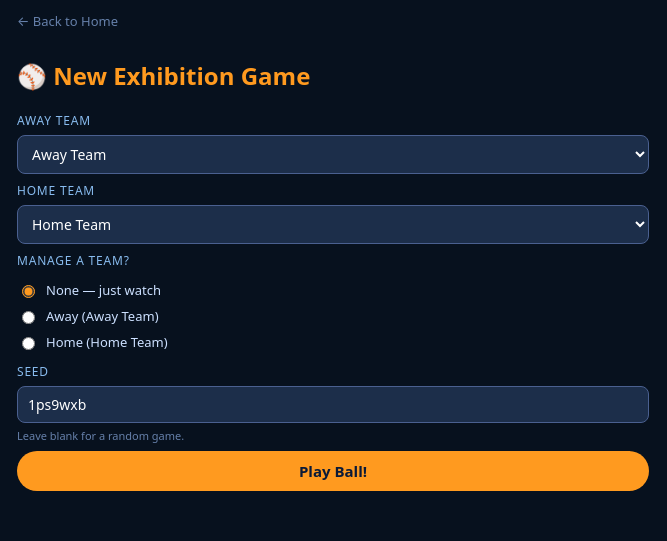
Test: ExhibitionSetupPage › self-matchup: warning clears and Play Ball re-enables when different teams are selected
The image size is (667, 541).
# Force same team → warning appears.
Select "Away Team" in the dropdown with test id "new-game-custom-home-team-select" at (333, 224), box x1=17 y1=205 x2=649 y2=244
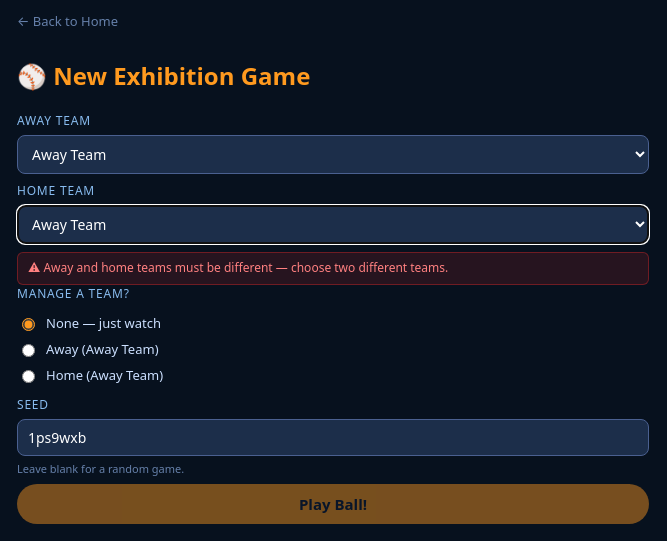
Result: the message "⚠ Away and home teams must be different — choose two different teams." is shown at x1=17 y1=252 x2=649 y2=285
Result: the button with test id "play-ball-button" is disabled at x1=17 y1=484 x2=649 y2=524
# Switch home back to ct_home → warning clears, button re-enables.
Select "Home Team" in the dropdown with test id "new-game-custom-home-team-select" at (333, 224), box x1=17 y1=205 x2=649 y2=244
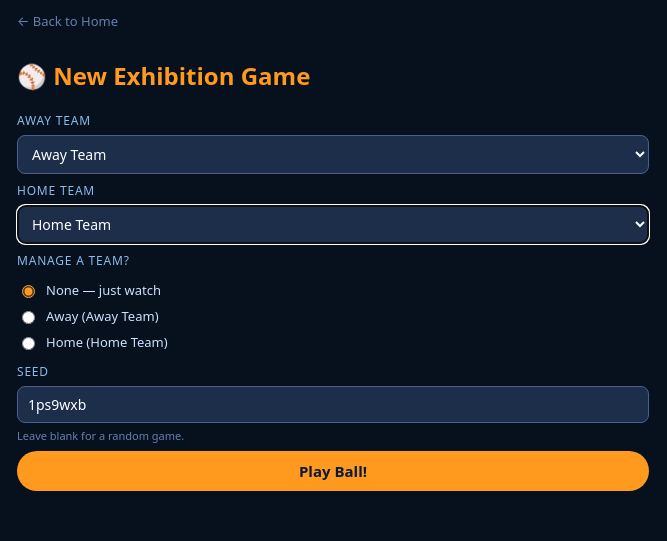
Result: the message with test id "team-validation-error" is gone
Result: the button with test id "play-ball-button" is enabled at x1=17 y1=451 x2=649 y2=491
